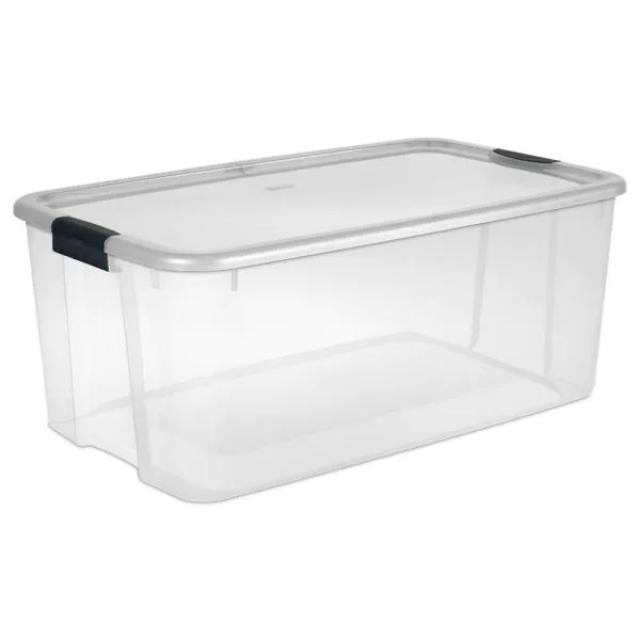plastic: (14, 138, 624, 502)
